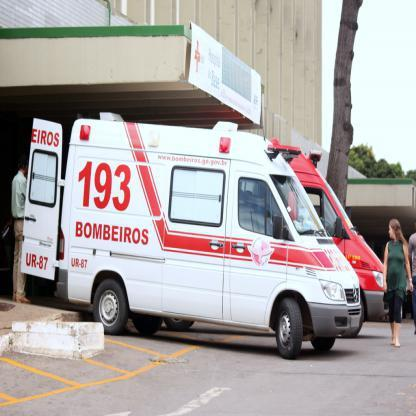Ambulance - v1 Ambulance last generate: (21, 115, 364, 359)
